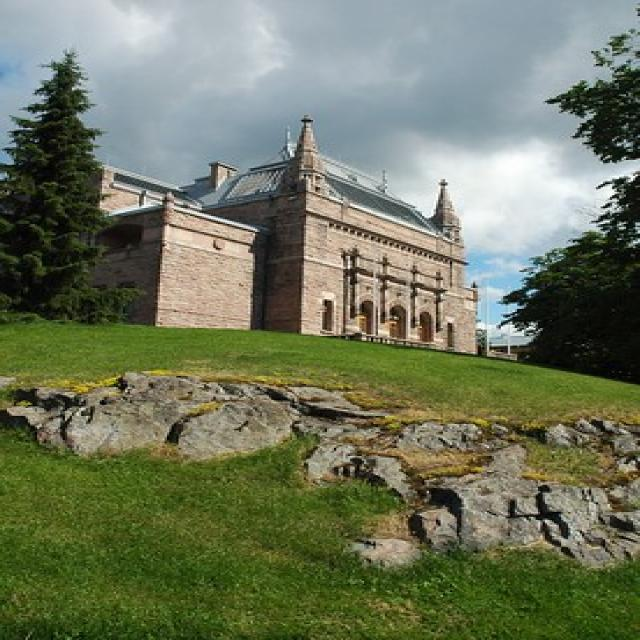building: (62, 111, 488, 358)
